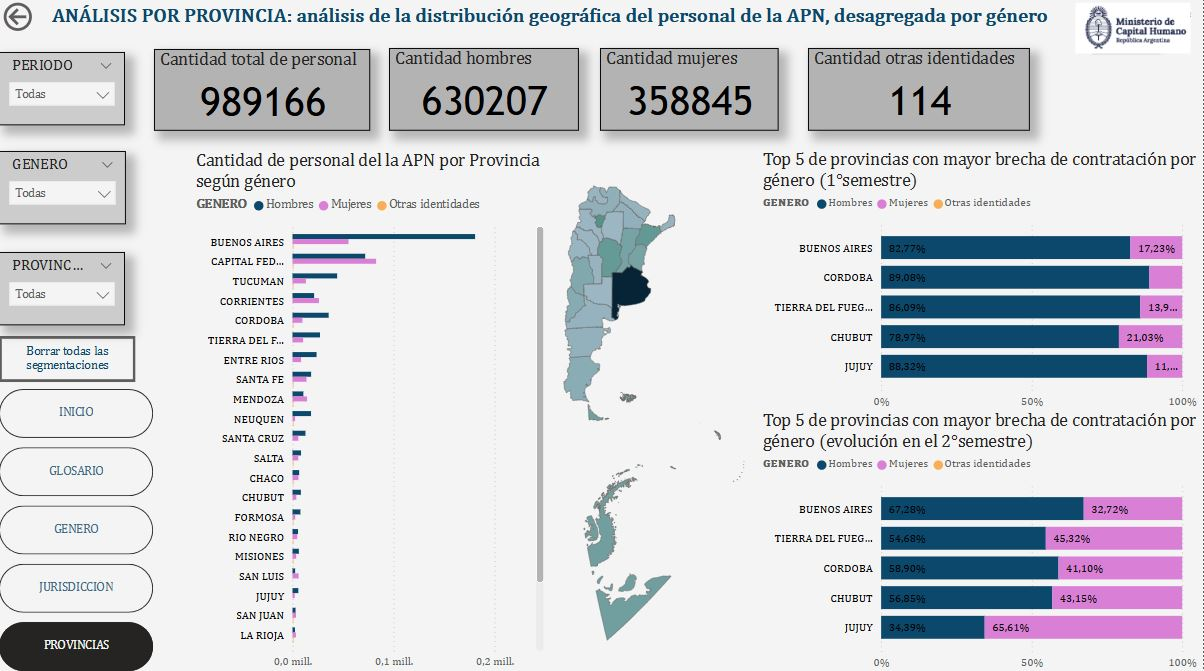

Layout of this report page (visuals, bound fields, positions):
{"tool":"powerbi","page":{"name":"PROVINCIAS","canvas":[1280,720],"ordinal":4},"visuals":[{"type":"textbox","box":[50.8,1.5,1107.7,75.4],"z":0},{"type":"shapeMap","fields":{"Category":["personal.PROVINCIA"],"Value":["personal.puestos_de_trabajo más puestos_de_trabajo"]},"box":[584.6,162.7,223.2,557.3],"z":1000},{"type":"clusteredBarChart","title":"Cantidad de personal del la APN por Provincia según género","fields":{"Category":["personal.PROVINCIA"],"Y":["Sum(personal.puestos_de_trabajo)"],"Series":["personal.GENERO"]},"box":[204.5,162.7,380.2,557.3],"z":2000},{"type":"actionButton","box":[0,0,100,40],"z":3000},{"type":"slicer","fields":{"Values":["personal.PERIODO"]},"box":[0,57.6,133.9,77.8],"z":4000},{"type":"slicer","fields":{"Values":["personal.GENERO"]},"box":[0,162.7,135.4,77.8],"z":5000},{"type":"card","title":"Cantidad total de personal","fields":{"Values":["Sum(personal.puestos_de_trabajo)"]},"box":[164.6,53.8,230.1,87.3],"z":6000},{"type":"slicer","fields":{"Values":["personal.PROVINCIA"]},"box":[0,270.7,133.9,77.8],"z":7000},{"type":"card","title":"Cantidad hombres","fields":{"Values":["Sum(personal.puestos_de_trabajo)"]},"box":[414.7,53.3,201.6,87.8],"z":8000},{"type":"card","title":"Cantidad mujeres","fields":{"Values":["Sum(personal.puestos_de_trabajo)"]},"box":[639.4,53.3,190.1,87.8],"z":9000},{"type":"card","title":"Cantidad otras identidades","fields":{"Values":["Sum(personal.puestos_de_trabajo)"]},"box":[861.1,53.3,236.2,87.8],"z":10000},{"type":"image","box":[1133.3,0,146.9,64.8],"z":11000},{"type":"pageNavigator","box":[0,416.2,164.2,303.8],"z":12000},{"type":"actionButton","box":[0,360,145.4,49],"z":13000},{"type":"hundredPercentStackedBarChart","title":"Top 5 de provincias con mayor brecha de contratación por género (1°semestre)","fields":{"Category":["personal.PROVINCIA"],"Y":["Sum(personal.puestos_de_trabajo)"],"Series":["personal.GENERO"]},"box":[807.8,161.3,472.3,280.8],"z":14000},{"type":"hundredPercentStackedBarChart","title":"Top 5 de provincias con mayor brecha de contratación por género (evolución en el 2°semestre)","fields":{"Category":["personal.PROVINCIA"],"Y":["Sum(personal.puestos_de_trabajo)"],"Series":["personal.GENERO"]},"box":[807.8,439.2,472.3,280.8],"z":15001}]}

Visuals, with their boxes in screenshot pixels (x1, y1, x2, y2), scaled from the page's 1280x720 canvas onto the 1204x671 screenshot:
textbox: detection(48, 1, 1090, 72)
shapeMap - personal.PROVINCIA x personal.puestos_de_trabajo más puestos_de_trabajo: detection(550, 152, 760, 670)
"Cantidad de personal del la APN por Provincia según género" clusteredBarChart: detection(192, 152, 550, 670)
actionButton: detection(0, 0, 94, 37)
slicer - personal.PERIODO: detection(0, 54, 126, 126)
slicer - personal.GENERO: detection(0, 152, 127, 224)
"Cantidad total de personal" card: detection(155, 50, 371, 131)
slicer - personal.PROVINCIA: detection(0, 252, 126, 325)
"Cantidad hombres" card: detection(390, 50, 580, 131)
"Cantidad mujeres" card: detection(601, 50, 780, 131)
"Cantidad otras identidades" card: detection(810, 50, 1032, 131)
image: detection(1066, 0, 1203, 60)
pageNavigator: detection(0, 388, 154, 670)
actionButton: detection(0, 336, 137, 381)
"Top 5 de provincias con mayor brecha de contratación por género (1°semestre)" hundredPercentStackedBarChart: detection(760, 150, 1203, 412)
"Top 5 de provincias con mayor brecha de contratación por género (evolución en el 2°semestre)" hundredPercentStackedBarChart: detection(760, 409, 1203, 670)
